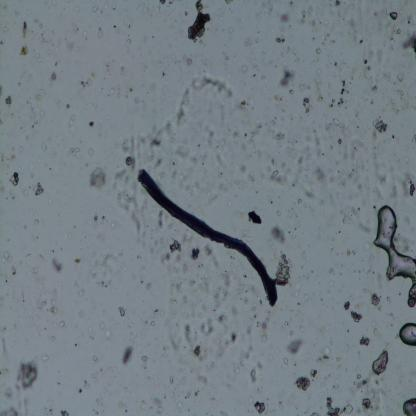Air bubble: (374, 204, 416, 308), (397, 323, 416, 346), (401, 396, 416, 414), (389, 11, 399, 22)
Background material: (148, 73, 232, 158), (292, 108, 353, 169), (113, 156, 148, 239), (366, 155, 400, 199), (184, 317, 214, 363), (389, 68, 414, 117), (186, 0, 215, 42), (112, 130, 152, 158), (233, 122, 264, 157), (89, 256, 124, 287), (160, 315, 186, 354), (26, 87, 46, 129), (210, 271, 232, 309), (328, 79, 349, 113), (310, 28, 335, 56), (340, 21, 368, 46), (274, 254, 291, 289), (233, 336, 255, 363), (19, 359, 38, 390), (35, 293, 58, 318), (324, 396, 354, 415), (361, 61, 378, 94), (269, 111, 286, 143), (0, 249, 18, 276), (96, 323, 118, 345), (34, 18, 50, 48), (276, 45, 304, 62), (372, 349, 388, 377), (76, 65, 94, 89), (337, 240, 359, 259), (176, 48, 198, 66), (280, 67, 294, 95), (88, 168, 106, 189), (254, 318, 272, 339), (361, 393, 379, 414), (401, 30, 416, 54), (313, 166, 329, 188), (247, 31, 262, 54), (268, 167, 288, 184), (158, 1, 178, 18), (284, 338, 304, 355), (271, 223, 286, 245), (150, 392, 164, 414), (372, 118, 389, 136), (353, 372, 369, 390), (246, 208, 262, 226), (402, 178, 416, 198), (261, 2, 275, 22), (373, 50, 389, 66), (295, 375, 310, 392), (50, 256, 64, 274), (118, 14, 136, 28), (76, 380, 92, 395), (275, 89, 287, 109), (302, 94, 313, 115), (122, 345, 133, 366), (0, 403, 19, 415), (168, 240, 183, 255), (36, 137, 50, 152), (332, 61, 346, 76), (95, 24, 108, 40), (300, 290, 314, 304), (253, 399, 266, 414), (0, 152, 19, 162), (90, 211, 100, 230), (148, 311, 160, 326), (140, 354, 150, 372), (238, 95, 250, 110), (21, 21, 30, 40), (168, 372, 178, 389), (190, 244, 200, 261), (357, 335, 371, 347), (218, 313, 229, 328), (34, 182, 45, 197), (18, 44, 30, 57), (351, 310, 362, 324), (316, 354, 330, 365), (9, 171, 19, 186), (371, 293, 381, 308), (89, 2, 99, 17), (158, 208, 165, 229), (279, 12, 290, 25), (4, 384, 14, 398), (309, 367, 319, 381), (228, 331, 238, 345), (203, 243, 212, 258), (84, 119, 98, 128), (70, 146, 80, 158), (62, 98, 72, 110), (117, 304, 126, 317), (250, 368, 257, 384), (342, 300, 352, 311), (306, 189, 315, 201), (108, 86, 118, 96), (41, 352, 50, 363), (283, 326, 292, 336), (276, 36, 286, 45), (5, 94, 12, 106), (93, 355, 100, 367), (125, 157, 132, 168), (295, 195, 303, 204), (52, 71, 58, 82), (334, 0, 342, 8), (59, 409, 69, 415), (59, 321, 65, 329), (282, 358, 288, 365)
Cotton: (136, 173, 277, 306)
